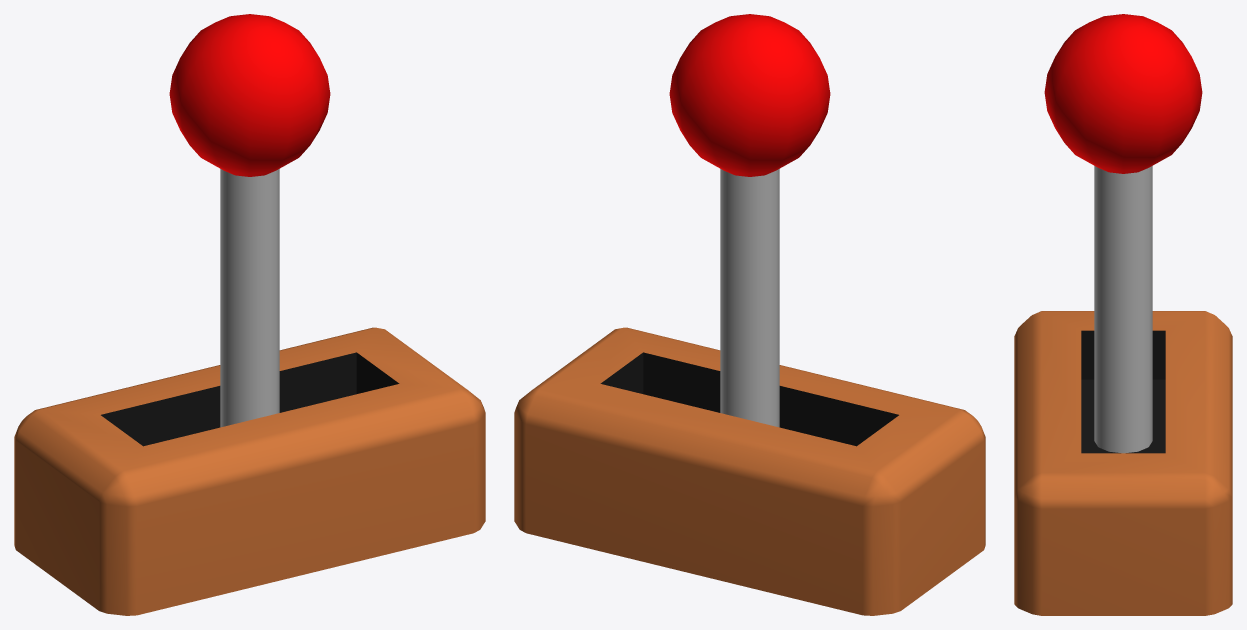
File: Lever.fbx
The picture shows the model from 3 angles, left to right: view 1: azimuth 30°, elevation 25°; view 2: azimuth 150°, elevation 25°; view 3: azimuth 270°, elevation 25°; orthographic projection.
Parts seen in each view (by area): view 1: LeverBase, LeverPipe; view 2: LeverBase, LeverPipe; view 3: LeverBase, LeverPipe.
Part boxes in pixels (x1,y1,x2,y2): LeverBase: (14,327,485,615); LeverPipe: (169,14,330,427); LeverBase: (514,327,985,615); LeverPipe: (669,14,830,427); LeverBase: (1014,311,1232,615); LeverPipe: (1044,14,1202,453).
Size of the model in its own units: 0.2404 by 0.3058 by 0.1202.
